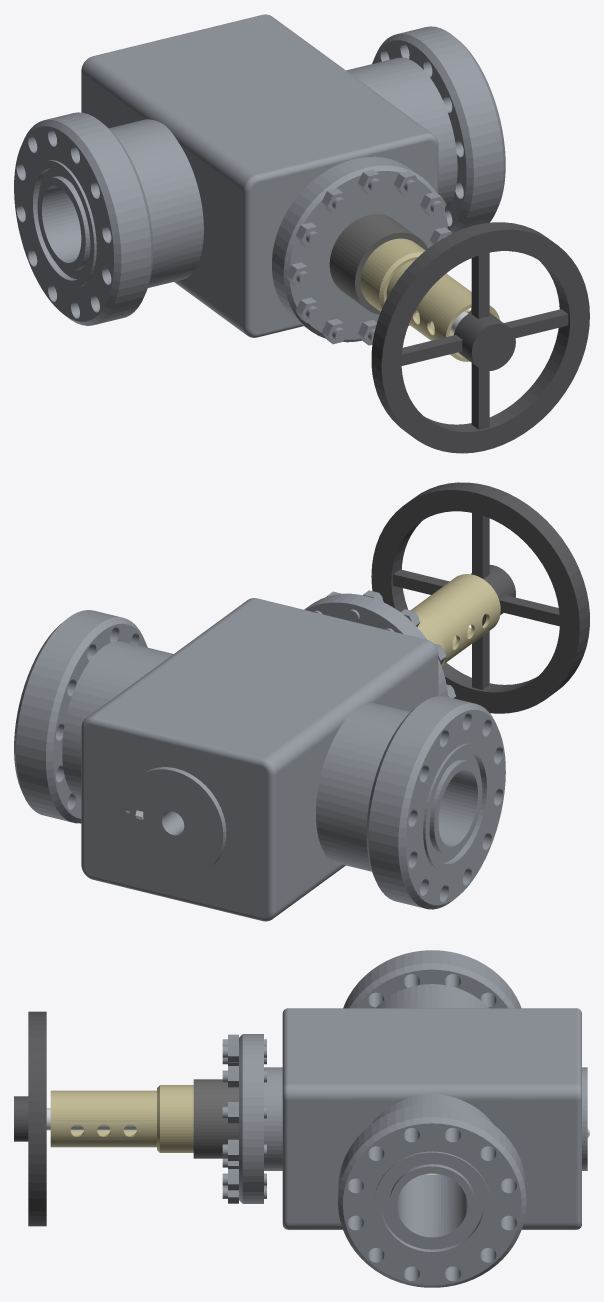
Rendered from WH-GATEVALVE.7-10K.glb.
3 renders of one model, top to bottom at view 1: azimuth 30°, elevation 25°; view 2: azimuth 150°, elevation 25°; view 3: azimuth 270°, elevation 25°, orthographic. The views are drawn at different scales.
Parts seen in each view (by area): view 1: WH-GATEVALVE-BODY, WH-GATEVALVE-HANDWHEEL, WH-GATEVALVE-FLANGE-IN, WH-GATEVALVE-BONNET, WH-GATEVALVE-FLANGE-OUT, WH-GATEVALVE-BEARING, WH-GATEVALVE-PACKING; view 2: WH-GATEVALVE-BODY, WH-GATEVALVE-FLANGE-IN, WH-GATEVALVE-HANDWHEEL, WH-GATEVALVE-FLANGE-OUT, WH-GATEVALVE-BEARING, WH-GATEVALVE-BONNET; view 3: WH-GATEVALVE-BODY, WH-GATEVALVE-FLANGE-OUT, WH-GATEVALVE-BEARING, WH-GATEVALVE-BONNET, WH-GATEVALVE-FLANGE-IN, WH-GATEVALVE-HANDWHEEL, WH-GATEVALVE-PACKING.
Boxes of the visible parts, x1,y1,x2,y2 form: WH-GATEVALVE-BODY: [81, 14, 457, 337]; WH-GATEVALVE-HANDWHEEL: [371, 222, 589, 453]; WH-GATEVALVE-FLANGE-IN: [14, 112, 153, 325]; WH-GATEVALVE-BONNET: [272, 156, 451, 345]; WH-GATEVALVE-FLANGE-OUT: [372, 26, 505, 233]; WH-GATEVALVE-BEARING: [360, 238, 500, 361]; WH-GATEVALVE-PACKING: [329, 214, 427, 314]; WH-GATEVALVE-BODY: [62, 598, 438, 921]; WH-GATEVALVE-FLANGE-IN: [366, 696, 505, 909]; WH-GATEVALVE-HANDWHEEL: [371, 482, 589, 713]; WH-GATEVALVE-FLANGE-OUT: [14, 610, 147, 823]; WH-GATEVALVE-BEARING: [410, 574, 500, 668]; WH-GATEVALVE-BONNET: [304, 590, 456, 698]; WH-GATEVALVE-BODY: [264, 984, 587, 1229]; WH-GATEVALVE-FLANGE-OUT: [338, 1104, 526, 1287]; WH-GATEVALVE-BEARING: [50, 1085, 193, 1152]; WH-GATEVALVE-BONNET: [222, 1034, 266, 1203]; WH-GATEVALVE-FLANGE-IN: [343, 950, 521, 1008]; WH-GATEVALVE-HANDWHEEL: [14, 1011, 46, 1226]; WH-GATEVALVE-PACKING: [193, 1079, 238, 1158].
Size of the model in its own units: 1.04 by 0.5469 by 1.47.
